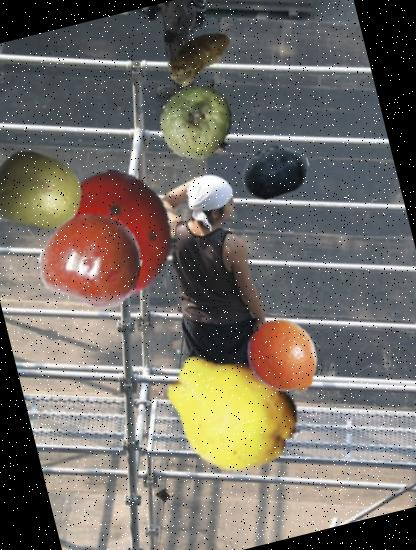Blueberry: (234, 129, 318, 213)
Cherry: (30, 198, 152, 320)
Ginger: (158, 14, 242, 99)
Kaki: (40, 157, 196, 313)
Limes: (152, 77, 244, 169)
Pomelo: (0, 134, 93, 249)
Quince: (147, 331, 315, 499)
Tangelo: (236, 310, 331, 406)
